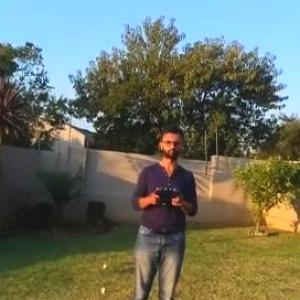follow: (123, 115, 205, 299)
